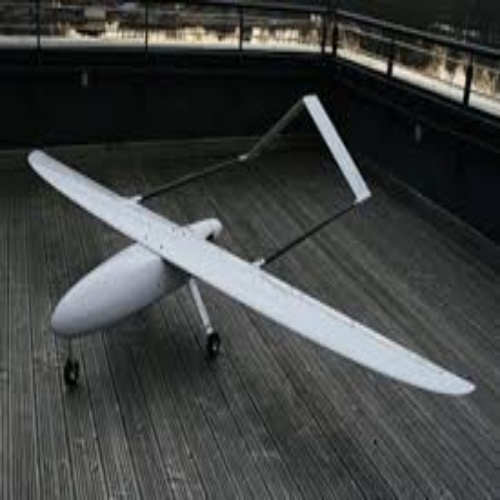uav299: (23, 94, 476, 404)
